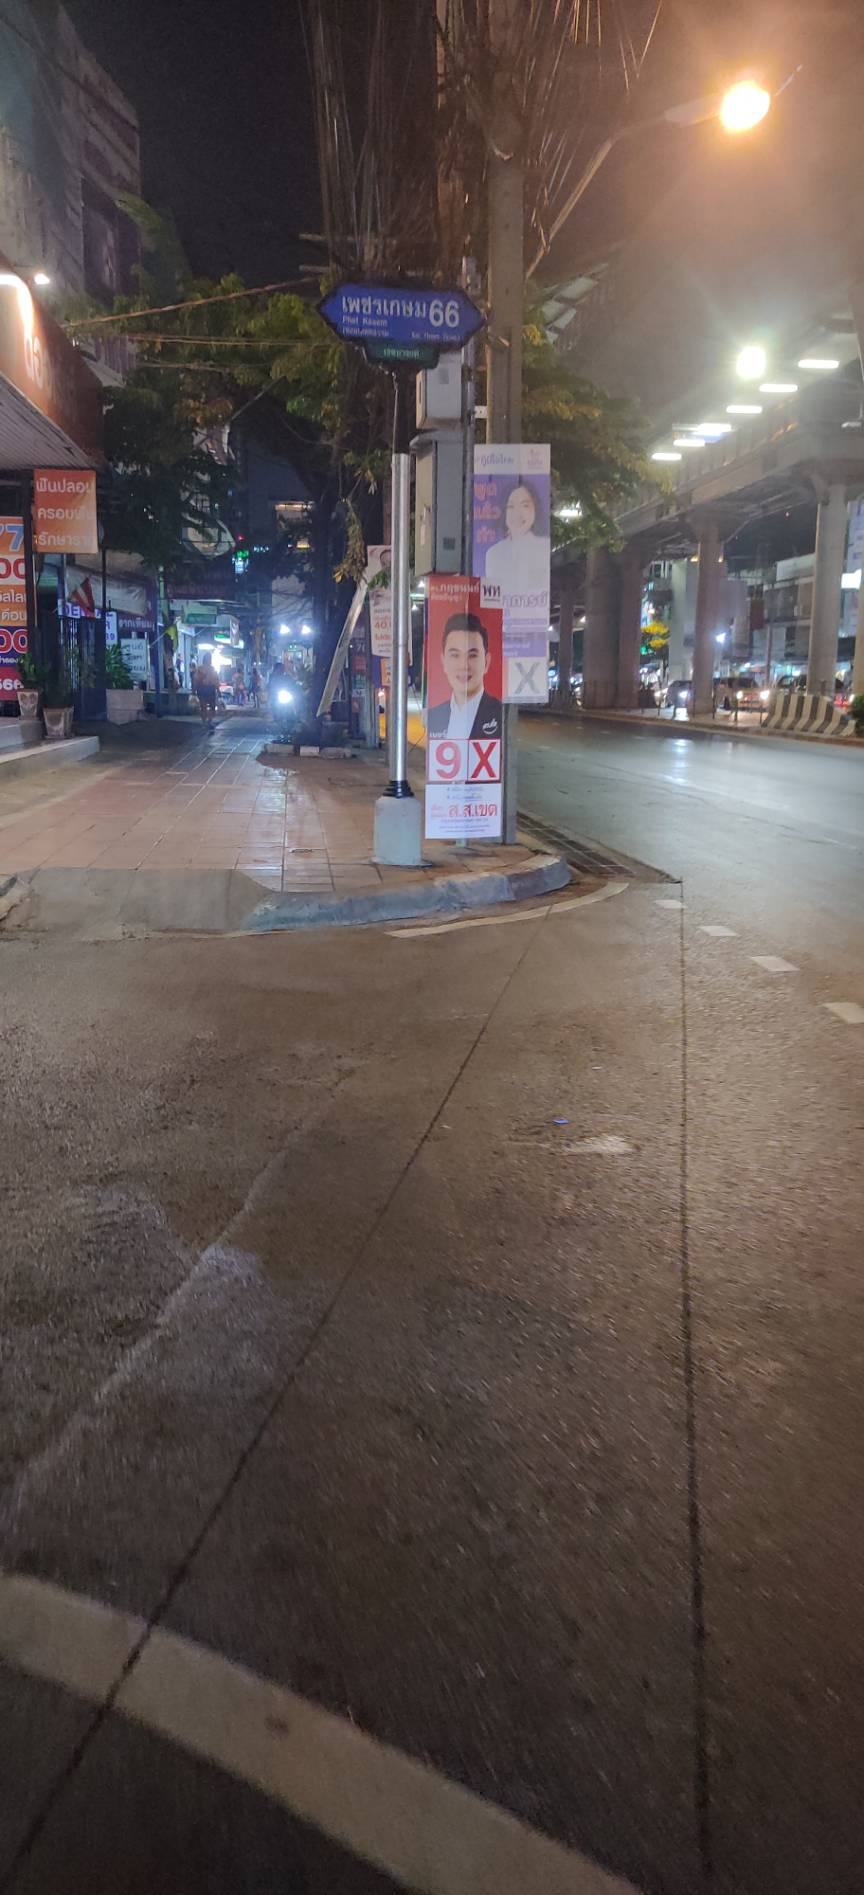Banner: (414, 583, 523, 845), (471, 433, 550, 703)
